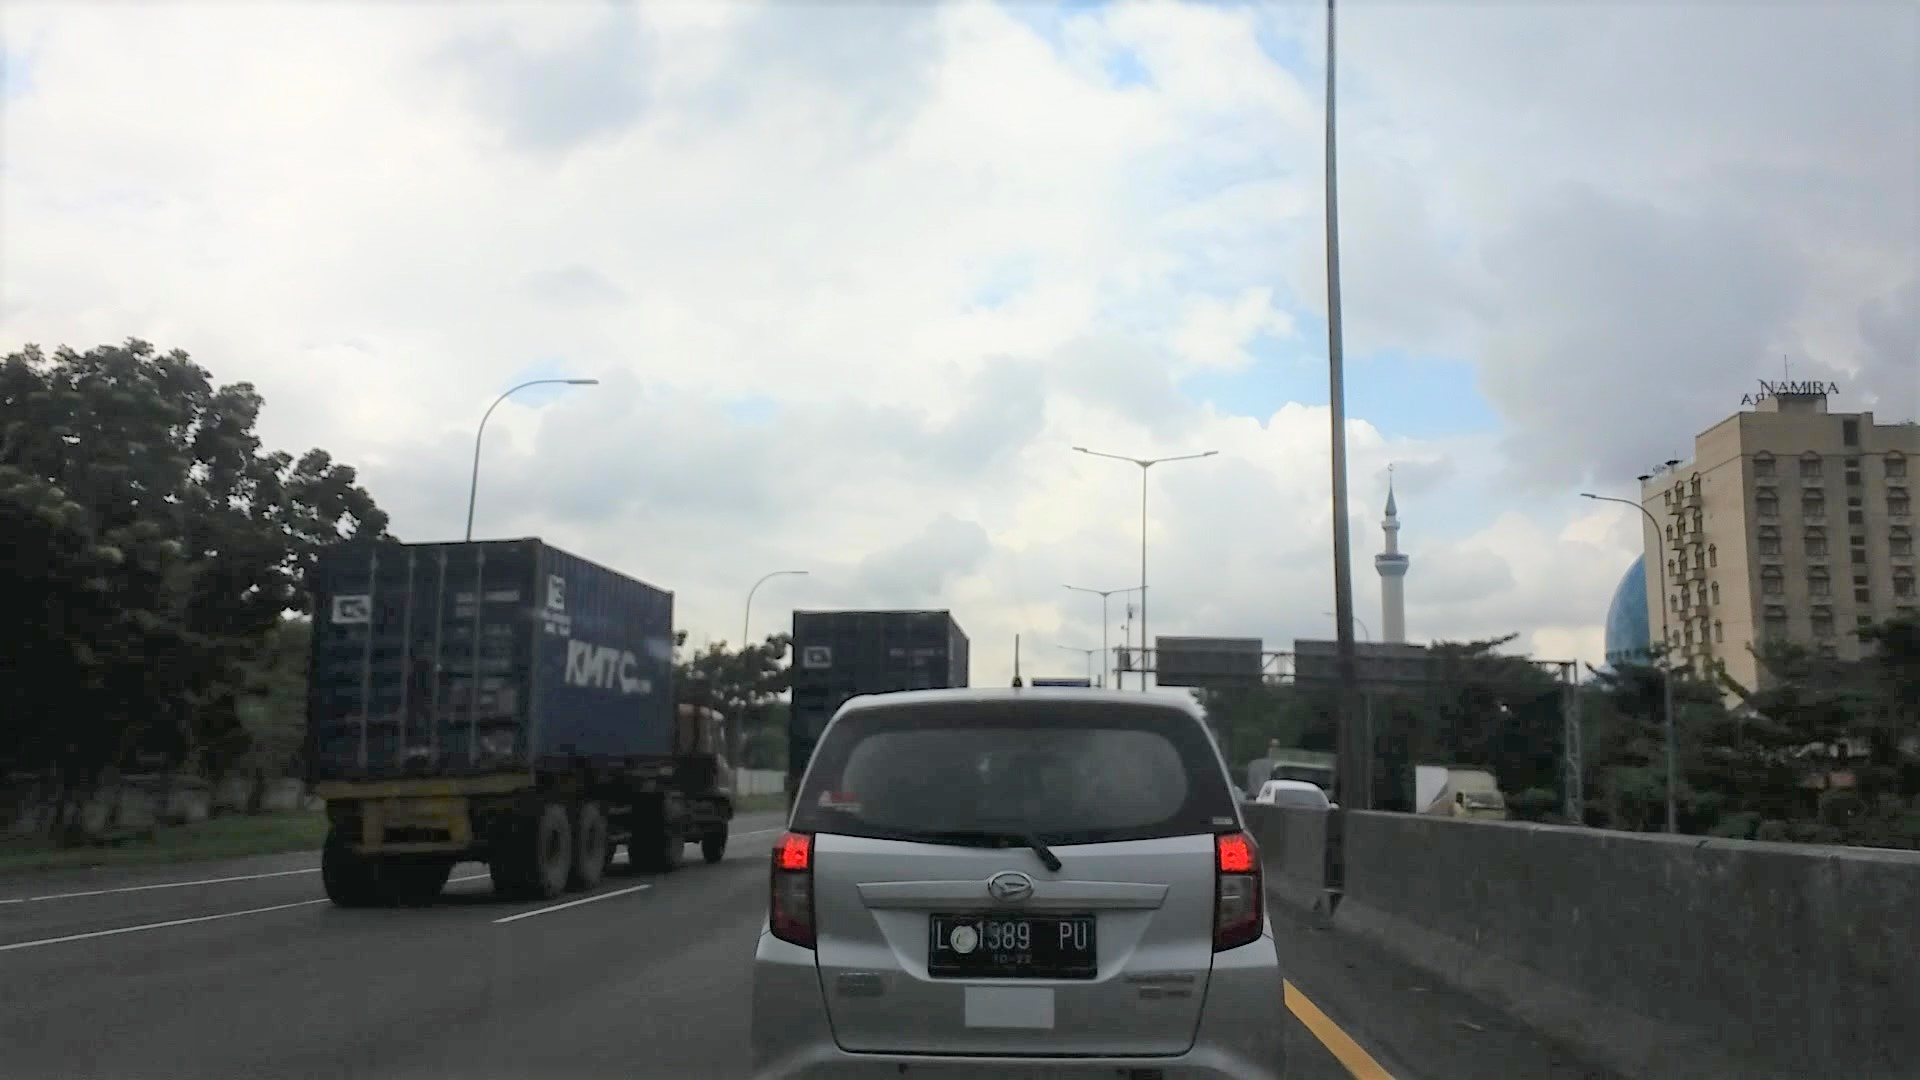plate_positive: (928, 913, 1097, 978)
